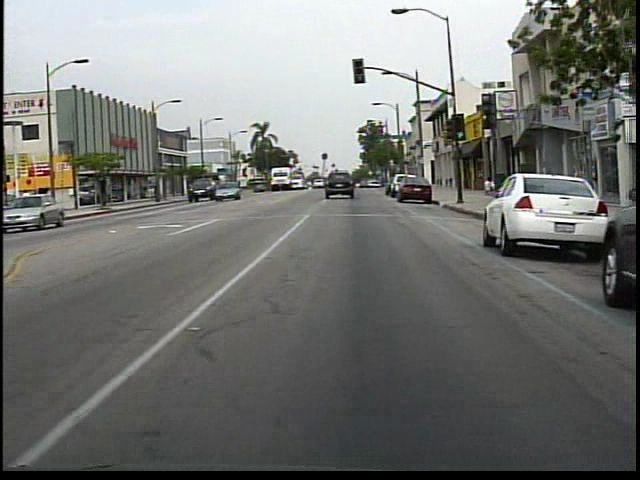person: (18, 186, 36, 218)
